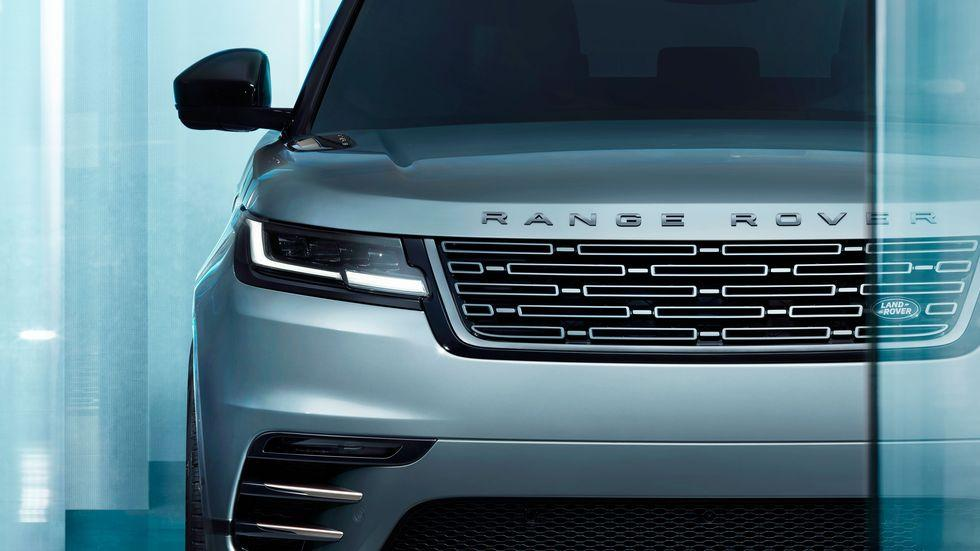range rover: (472, 197, 958, 244)
